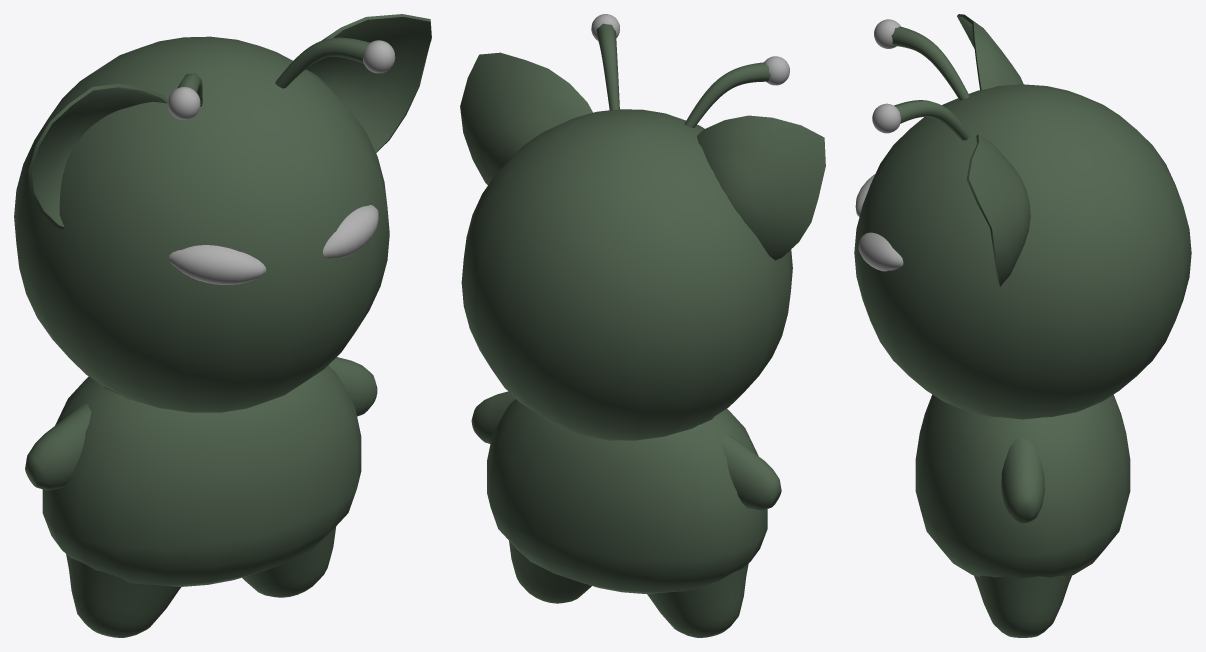
File: Alien_Group.fbx
3 views of the same model, side by side, from view 1: azimuth 30°, elevation 25°; view 2: azimuth 150°, elevation 25°; view 3: azimuth 270°, elevation 25° (orthographic). The views are drawn at different scales.
Visible parts, largest first — view 1: Head, Torso, Ear2, Ear1, Leg1, Hand1, Eye2, Leg, Eye1, Antena2, Hand, Glowy2 (+1 smaller); view 2: Head, Torso, Ear1, Ear2, Leg1, Hand1, Leg, Antena1, Antena2, Hand, Glowy2; view 3: Head, Torso, Ear2, Leg, Hand, Ear1, Antena1, Antena2, Eye1, Glowy1, Glowy2.
Part boxes in pixels (left/top/right/bottom): Head: left=14, top=36, right=389, bottom=412; Torso: left=42, top=365, right=361, bottom=586; Ear2: left=306, top=14, right=431, bottom=152; Ear1: left=28, top=83, right=167, bottom=229; Leg1: left=66, top=554, right=181, bottom=637; Hand1: left=25, top=403, right=91, bottom=490; Eye2: left=168, top=245, right=266, bottom=284; Leg: left=242, top=526, right=336, bottom=597; Eye1: left=323, top=205, right=378, bottom=258; Antena2: left=275, top=37, right=369, bottom=88; Hand: left=328, top=357, right=377, bottom=416; Glowy2: left=168, top=87, right=200, bottom=119; Head: left=461, top=109, right=792, bottom=440; Torso: left=487, top=399, right=767, bottom=593; Ear1: left=697, top=115, right=825, bottom=260; Ear2: left=460, top=52, right=592, bottom=185; Leg1: left=647, top=564, right=748, bottom=637; Hand1: left=721, top=435, right=781, bottom=510; Leg: left=509, top=541, right=591, bottom=603; Antena1: left=684, top=62, right=770, bottom=127; Antena2: left=596, top=23, right=619, bottom=110; Hand: left=471, top=391, right=515, bottom=443; Glowy2: left=764, top=56, right=789, bottom=85; Head: left=854, top=84, right=1191, bottom=419; Torso: left=915, top=394, right=1130, bottom=578; Ear2: left=966, top=134, right=1030, bottom=286; Leg: left=974, top=575, right=1071, bottom=637; Hand: left=1001, top=438, right=1044, bottom=523; Ear1: left=957, top=14, right=1023, bottom=90; Antena1: left=891, top=26, right=969, bottom=100; Antena2: left=894, top=100, right=970, bottom=140; Eye1: left=858, top=232, right=903, bottom=271; Glowy1: left=872, top=103, right=900, bottom=133; Glowy2: left=874, top=19, right=900, bottom=48.
Bounding box in the file's own units: 1.06 × 1.51 × 0.8586.
